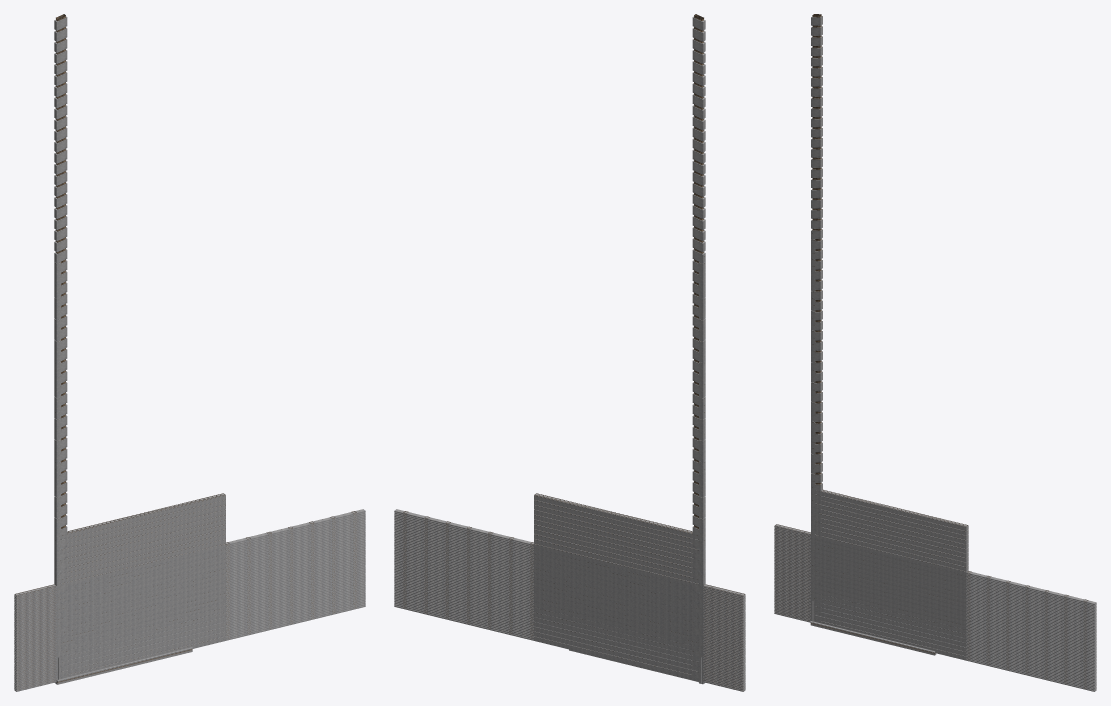
The model's file is teeth-concrete.glb.
3 renders of one model, left to right at view 1: azimuth 30°, elevation 25°; view 2: azimuth 150°, elevation 25°; view 3: azimuth 330°, elevation 25°, orthographic. The views are drawn at different scales.
Visible parts, largest first — view 1: teeth-cube-wall, teeth-cube-pillar-short-broad-wall, teeth-rectangle-diagonal-pillar, teeth-cube-pillar-short-broader-wall, teeth-rectangle-pillar-straight, teeth-relief-long; view 2: teeth-cube-wall, teeth-cube-pillar-short-broad-wall, teeth-rectangle-diagonal-pillar, teeth-cube-pillar-short-broader-wall, teeth-rectangle-pillar-straight; view 3: teeth-cube-wall, teeth-cube-pillar-short-broad-wall, teeth-rectangle-diagonal-pillar, teeth-cube-pillar-short-broader-wall, teeth-rectangle-pillar-straight, teeth-relief-long.
Boxes of the visible parts, x1,y1,x2,y2 form: teeth-cube-wall: [54, 493, 225, 678]; teeth-cube-pillar-short-broad-wall: [47, 509, 365, 683]; teeth-rectangle-diagonal-pillar: [54, 14, 67, 679]; teeth-cube-pillar-short-broader-wall: [14, 577, 101, 691]; teeth-rectangle-pillar-straight: [54, 255, 60, 678]; teeth-relief-long: [55, 647, 193, 684]; teeth-cube-wall: [534, 493, 705, 680]; teeth-cube-pillar-short-broad-wall: [394, 509, 712, 683]; teeth-rectangle-diagonal-pillar: [692, 14, 705, 683]; teeth-cube-pillar-short-broader-wall: [658, 577, 745, 691]; teeth-rectangle-pillar-straight: [699, 255, 705, 674]; teeth-cube-wall: [811, 489, 968, 659]; teeth-cube-pillar-short-broad-wall: [803, 531, 1096, 691]; teeth-rectangle-diagonal-pillar: [811, 14, 822, 622]; teeth-cube-pillar-short-broader-wall: [774, 524, 851, 630]; teeth-rectangle-pillar-straight: [811, 232, 815, 621]; teeth-relief-long: [810, 621, 936, 655].
Size of the model in its own units: 165 by 301 by 3.19.
Materials: 1 (1 with a texture image).
